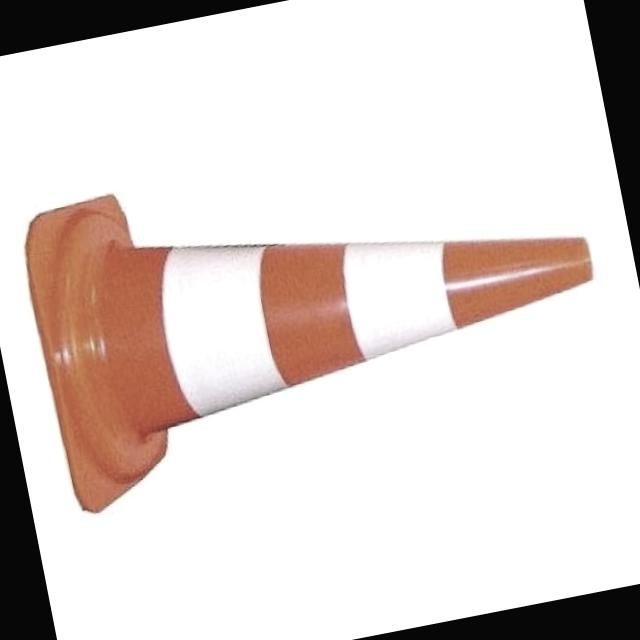cone: (33, 125, 630, 482)
